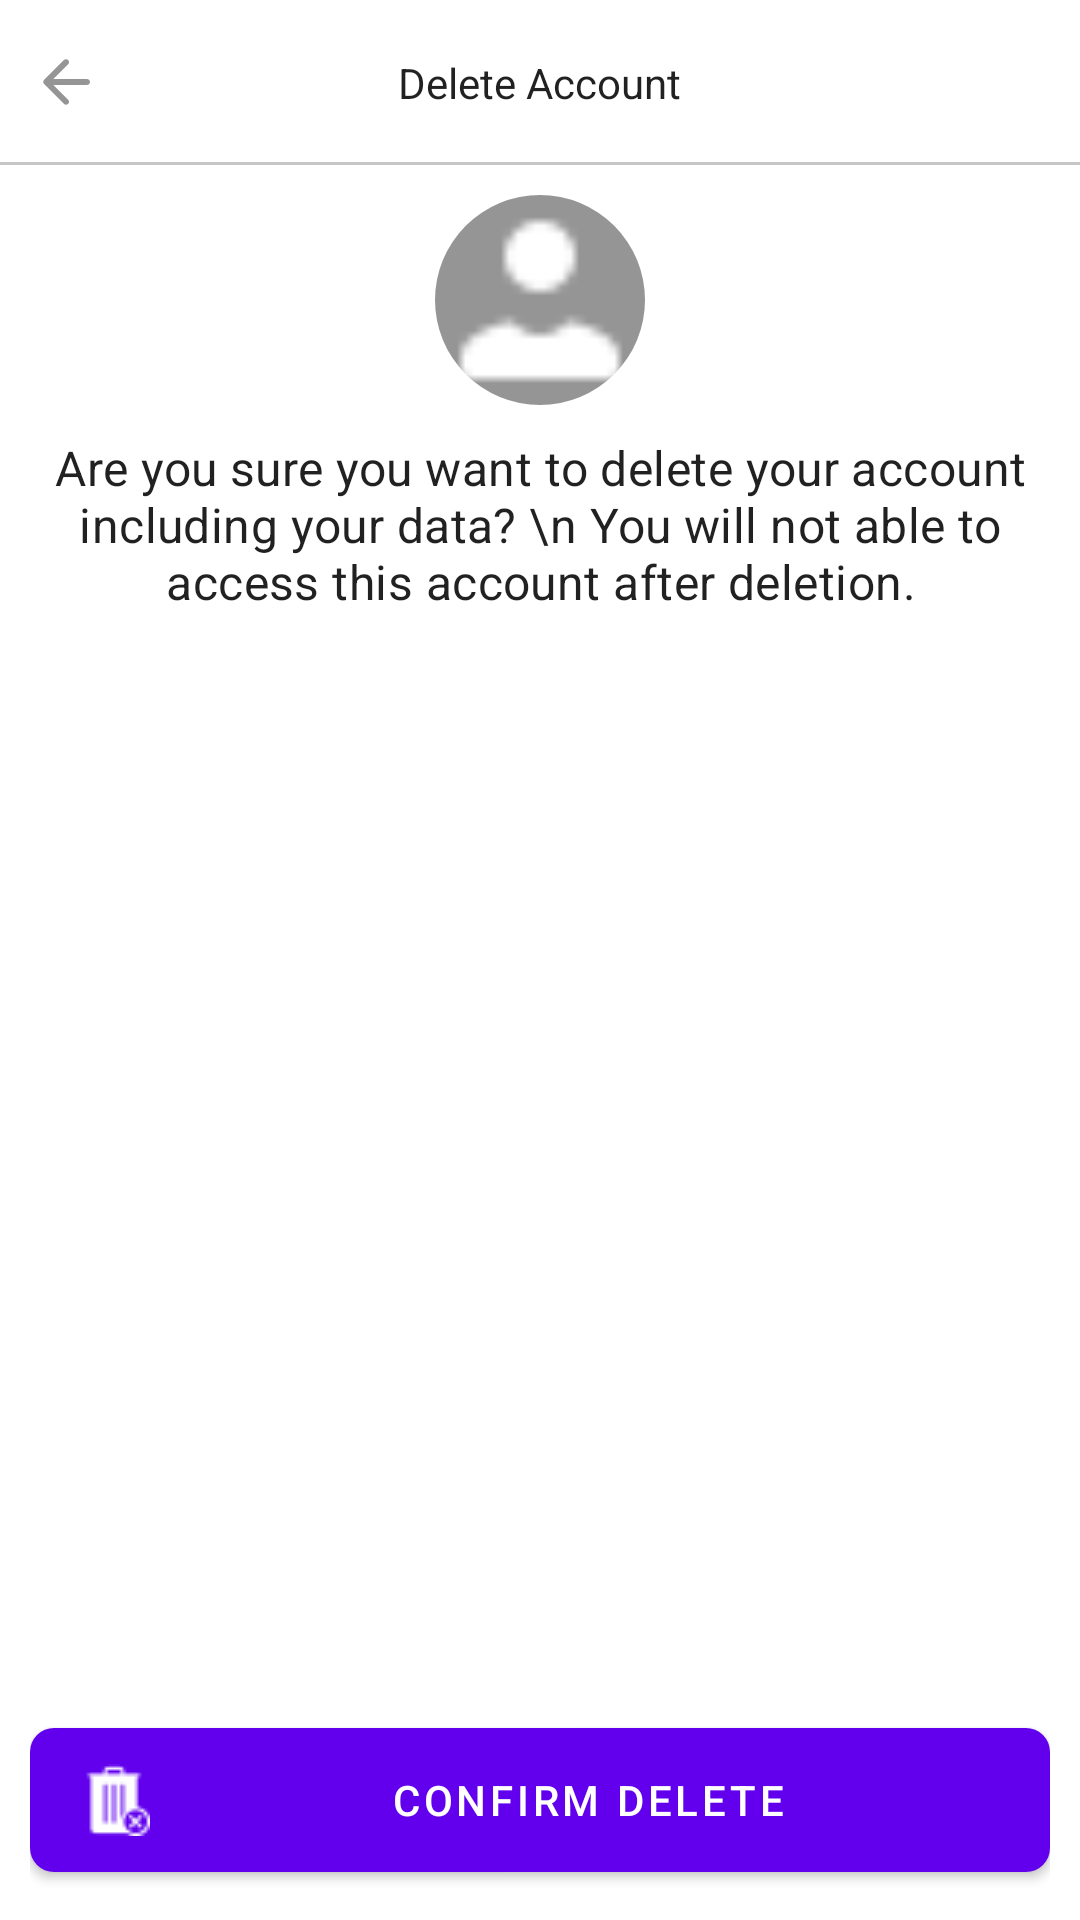

Screen size 1080px x 1920px. Icon name, then its box in pixels as Rect(x1, y1, x2, y2):
back: Rect(43, 59, 90, 105)
person: Rect(435, 195, 645, 405)
